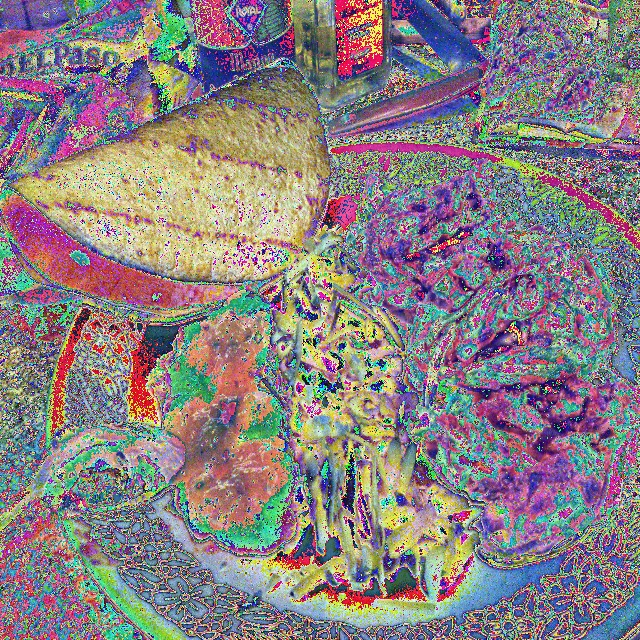background: (0, 58, 640, 601)
